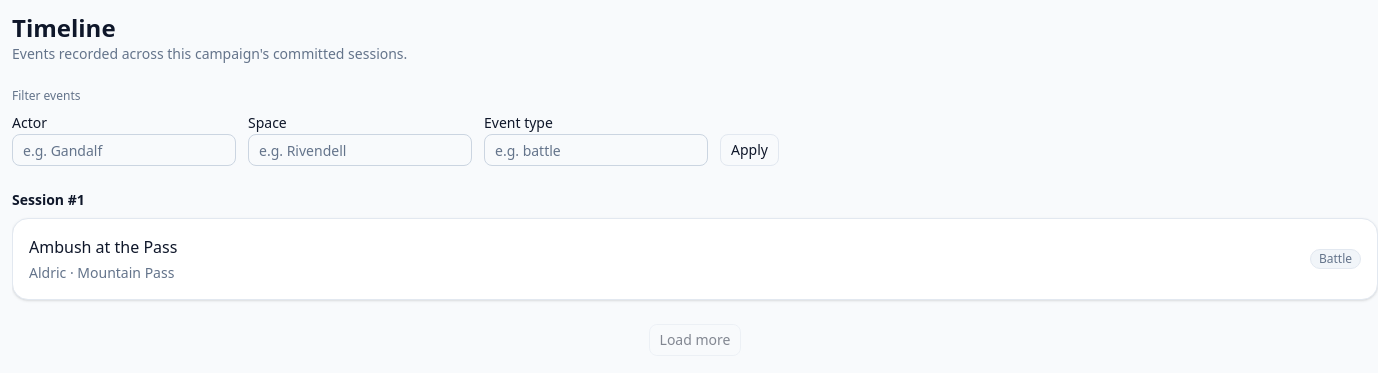
TimelinePage › clears active filters when Clear is clicked
Type "battle" into the field labelled "Event type" at (596, 150), box [484,134,708,166]
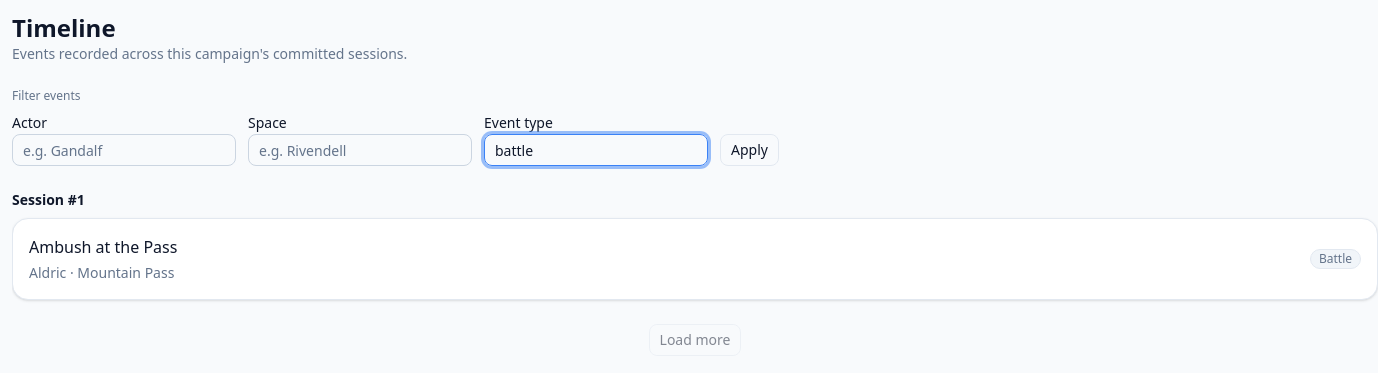
Click the button "Apply" at (749, 150), box [720,134,779,166]
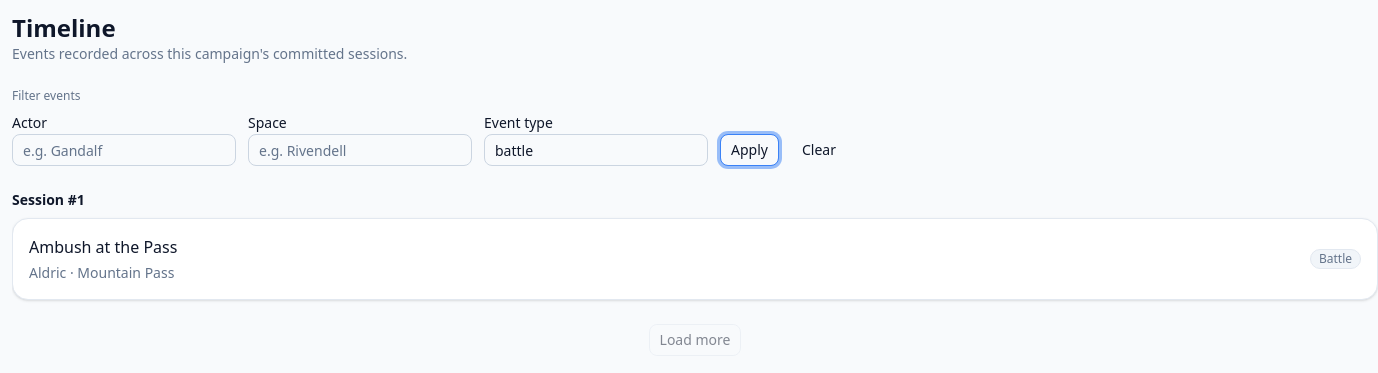
Click the button "Clear" at (819, 150), box [791,134,847,166]
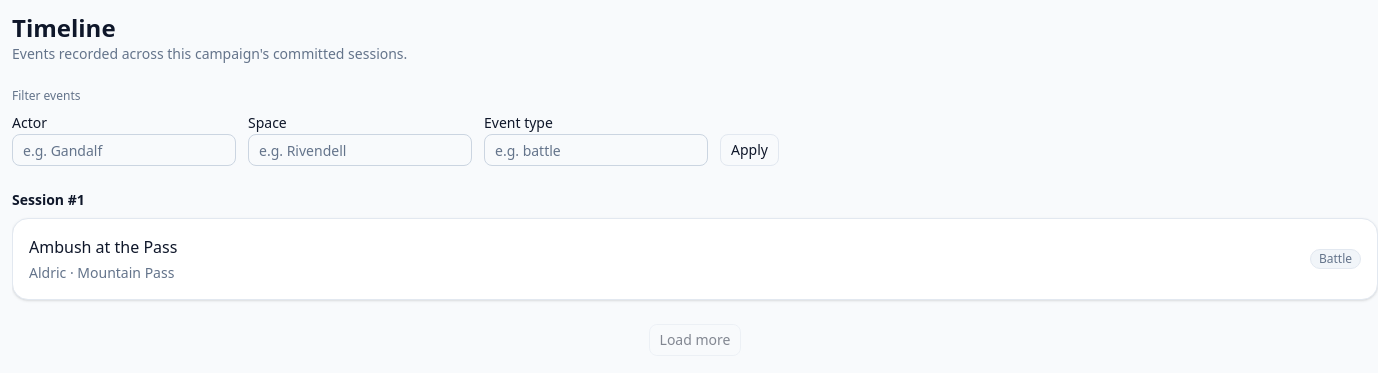
Expected: the field labelled "Event type" is empty, [484,134,708,166]
